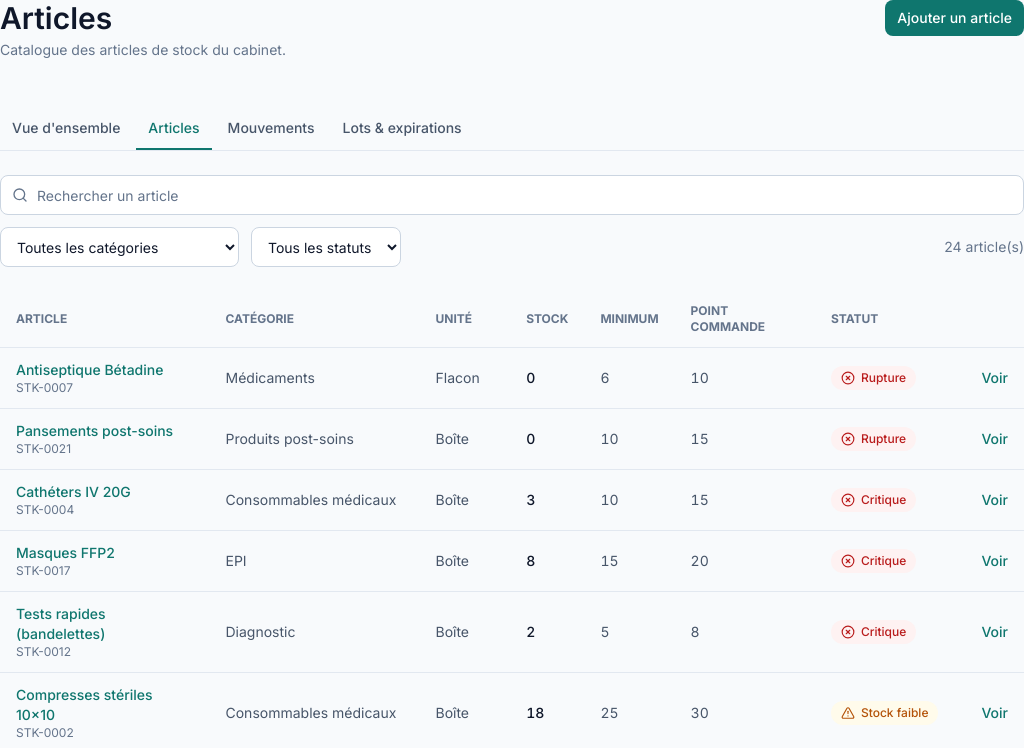
ItemsPage › adds a new article through the form dialog and shows it in the list with a generated item number
Click the button "Ajouter un article" at (955, 18), box [885,0,1023,36]
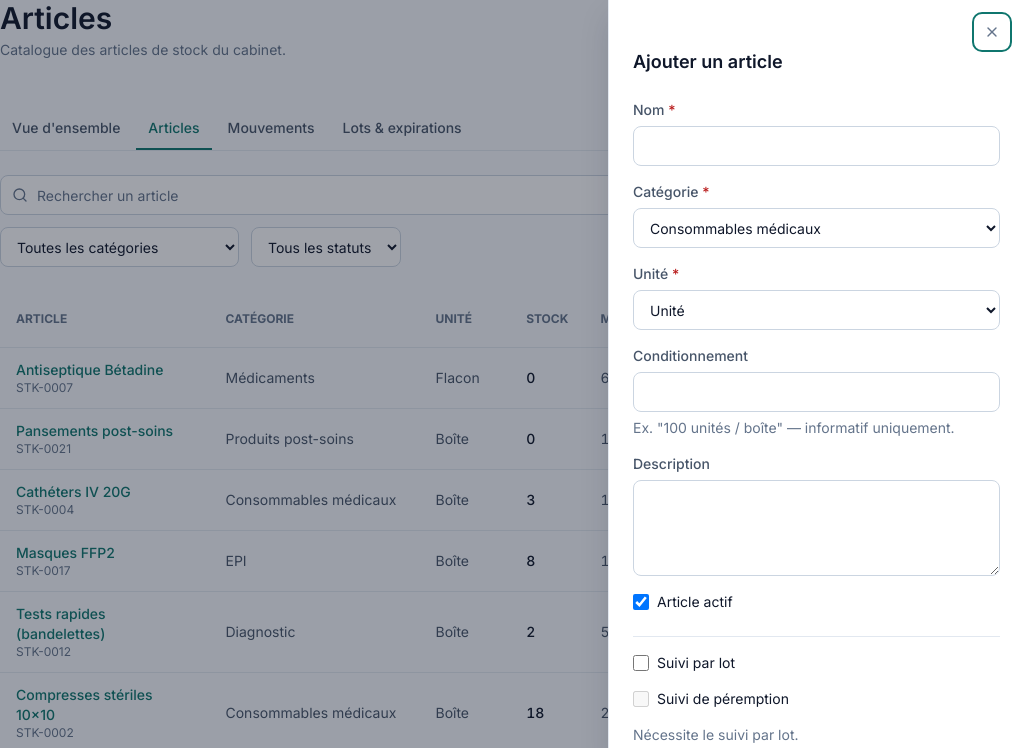
Type "Thermomètre auriculaire" into the field labelled "Nom *" at (816, 146), box [633,126,1000,166]
(page scrolled)
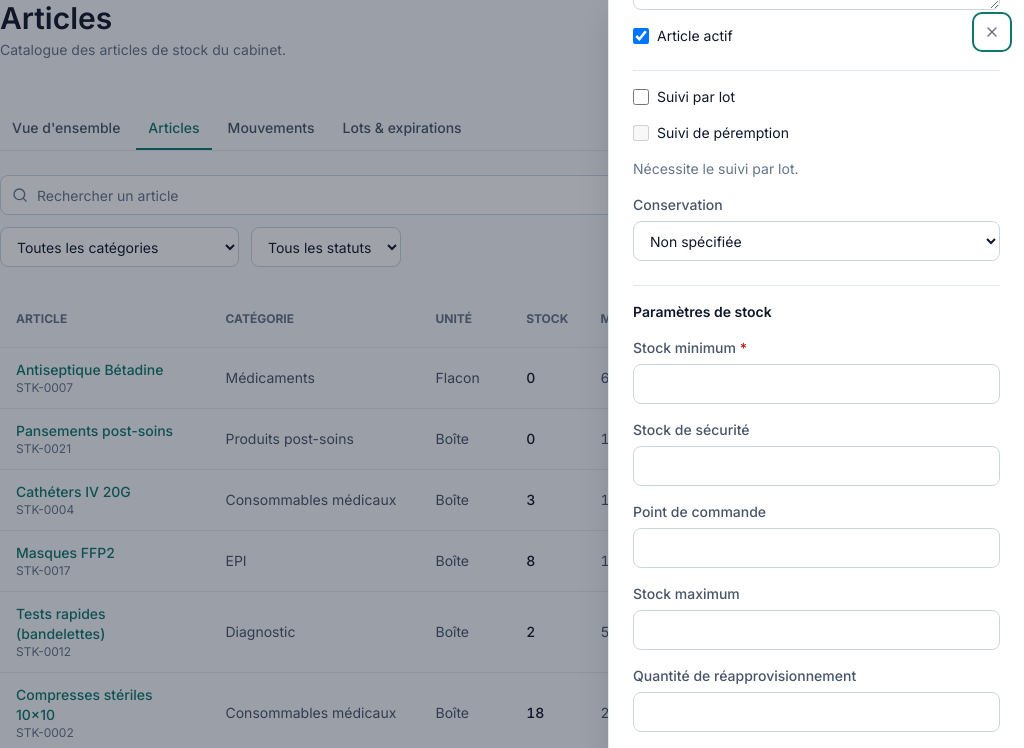
Type "2" into the number field labelled "Stock minimum *" at (816, 384), box [633,364,1000,404]
(page scrolled)
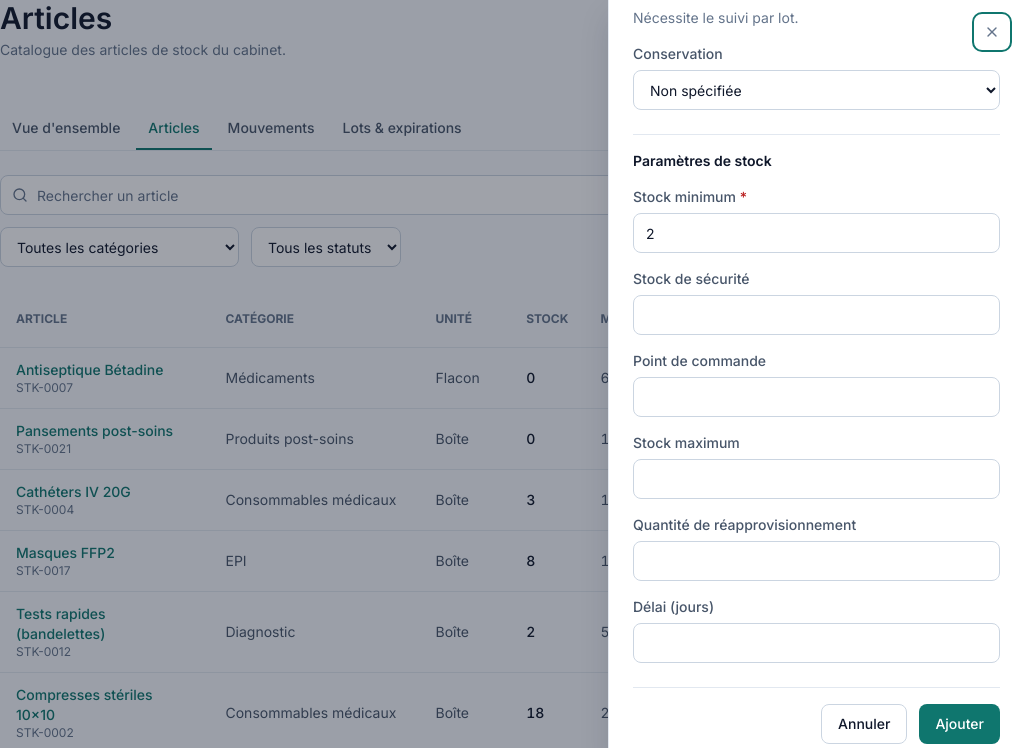
Click the button "Ajouter" at (960, 724), box [919,704,1000,744]
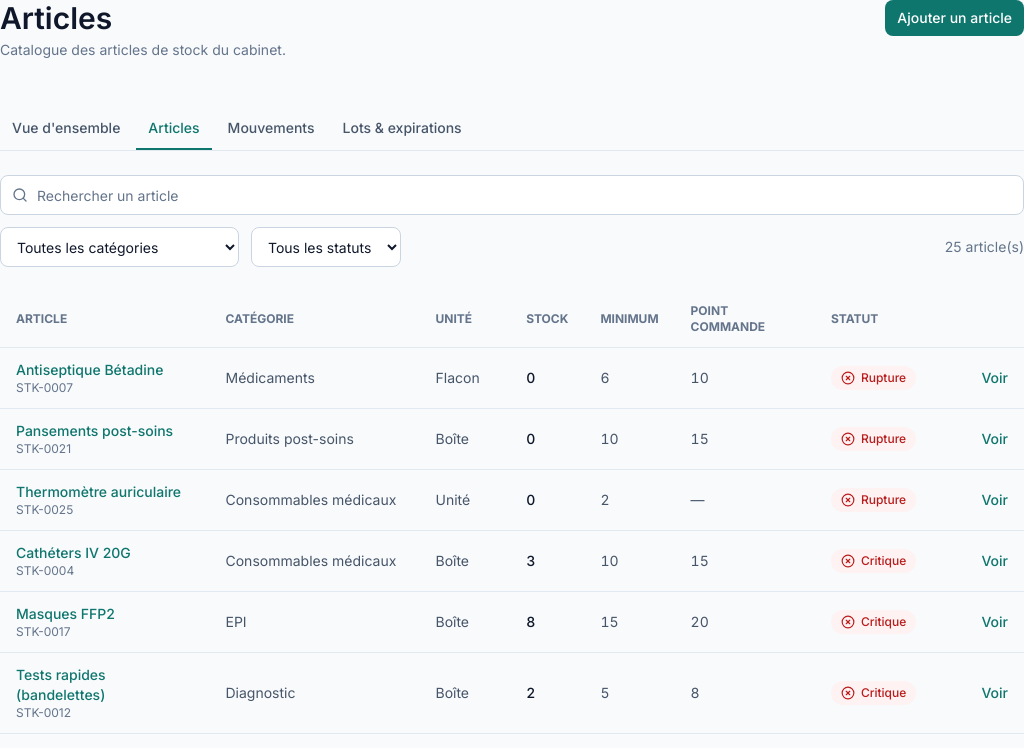
Expected: the text "STK-0025" is shown, [16,502,73,517]
